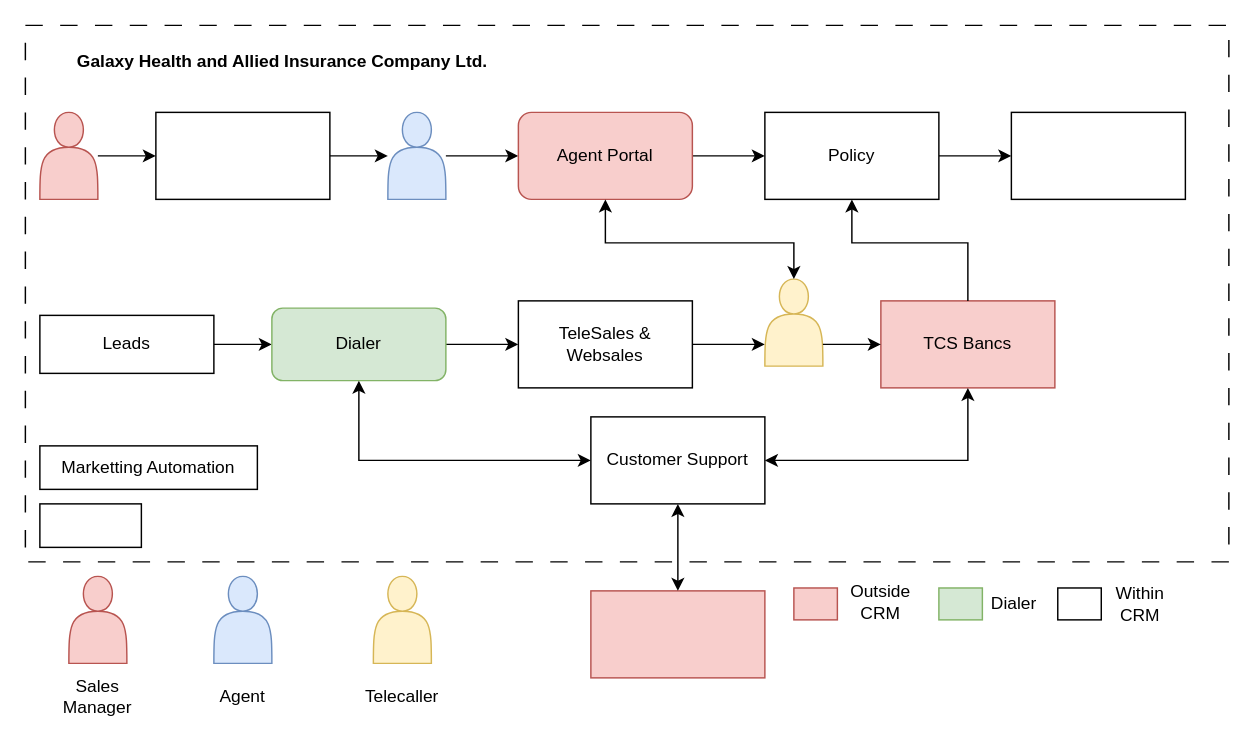
Some shapes in this 1254 by 744 pixel diagram are drawn without their labels. Here are the shapes that lost their labels. From the top down, the centre of each, then its label:
point (242, 155): Agent Onboarding
point (1097, 155): Commissions for Agents and Incentives for eligible employees
point (89, 524): Analytics
point (677, 633): IRDAI
